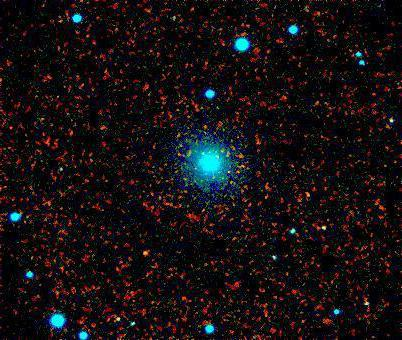star: (131, 241, 161, 271)
